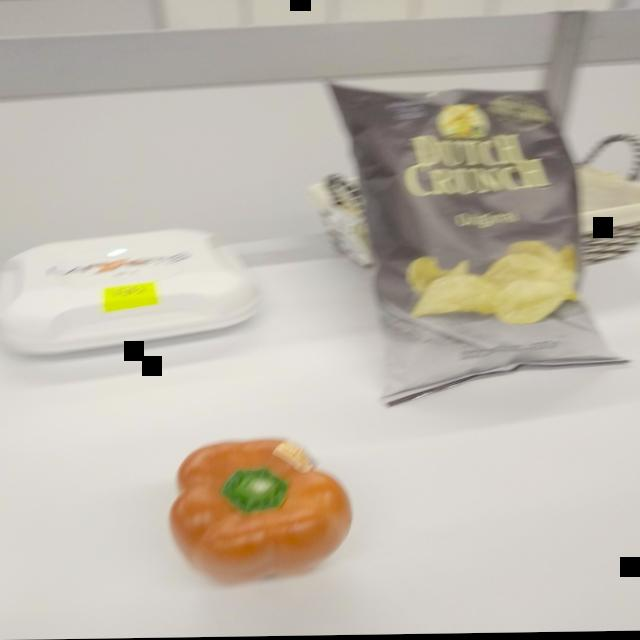paprika: (162, 432, 358, 592)
potato_chips: (319, 75, 631, 416)
